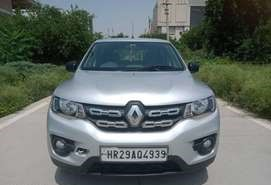HR29AQ4939: (100, 147, 167, 161)
